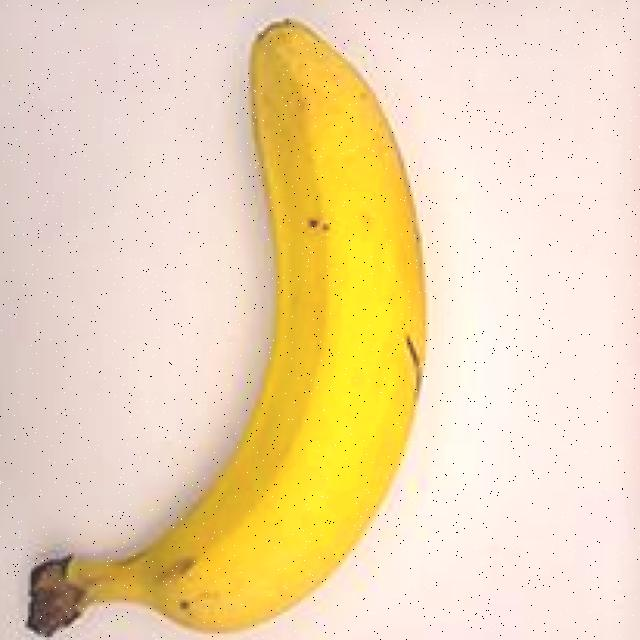Ripe: (0, 10, 463, 640)
